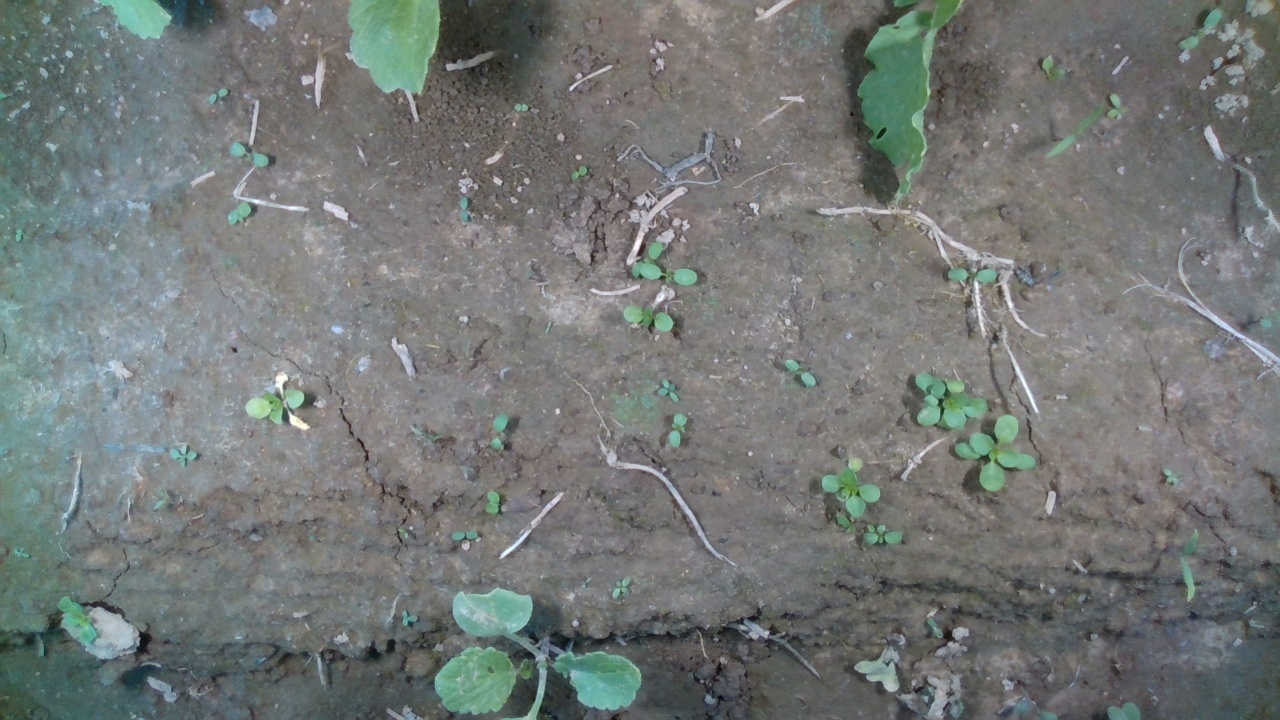weed: (1176, 7, 1224, 51), (229, 140, 270, 169), (783, 358, 817, 388), (860, 522, 904, 544), (487, 410, 510, 452), (666, 409, 689, 450), (168, 442, 199, 469), (945, 267, 997, 283), (655, 377, 679, 404), (1107, 92, 1130, 119), (203, 85, 230, 105), (485, 489, 501, 515), (450, 530, 480, 542), (1160, 467, 1180, 484), (568, 165, 590, 177)
